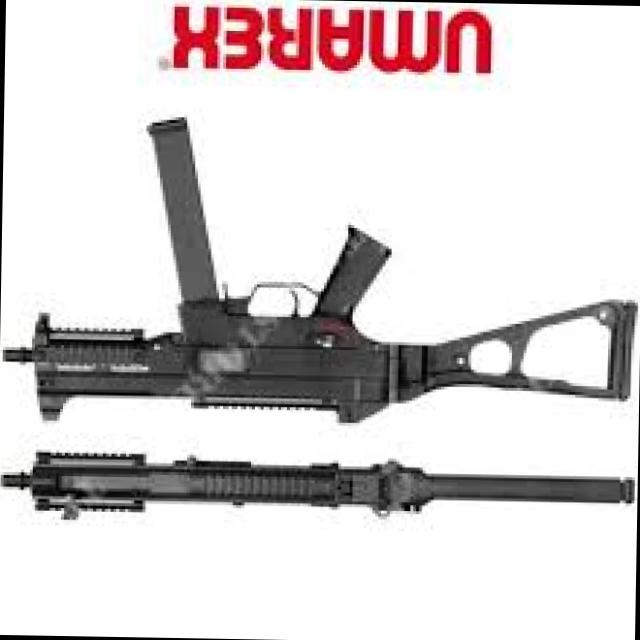Gun: (0, 110, 640, 433), (0, 433, 638, 543)
